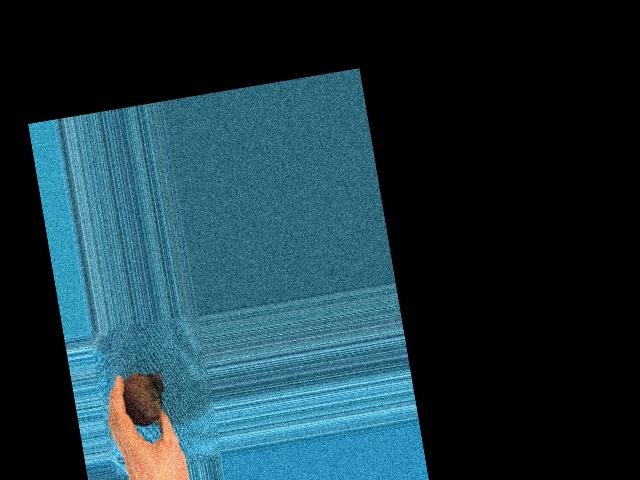beet: (120, 368, 171, 428)
